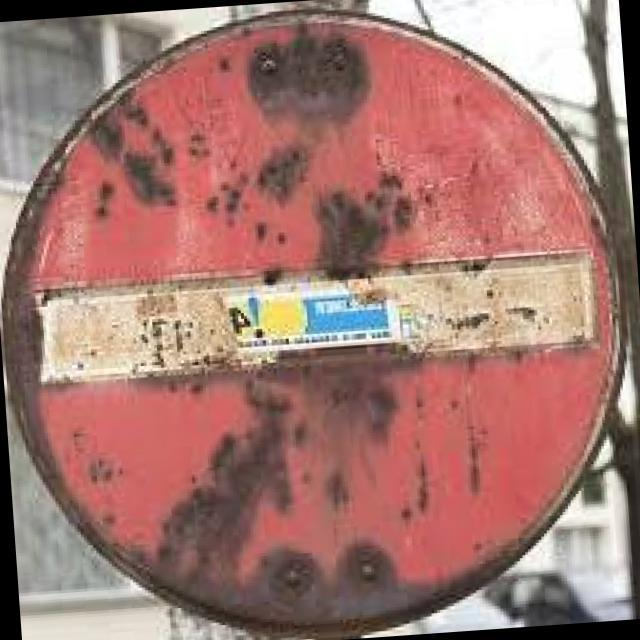obstructed_road_sign: (5, 11, 619, 635)
